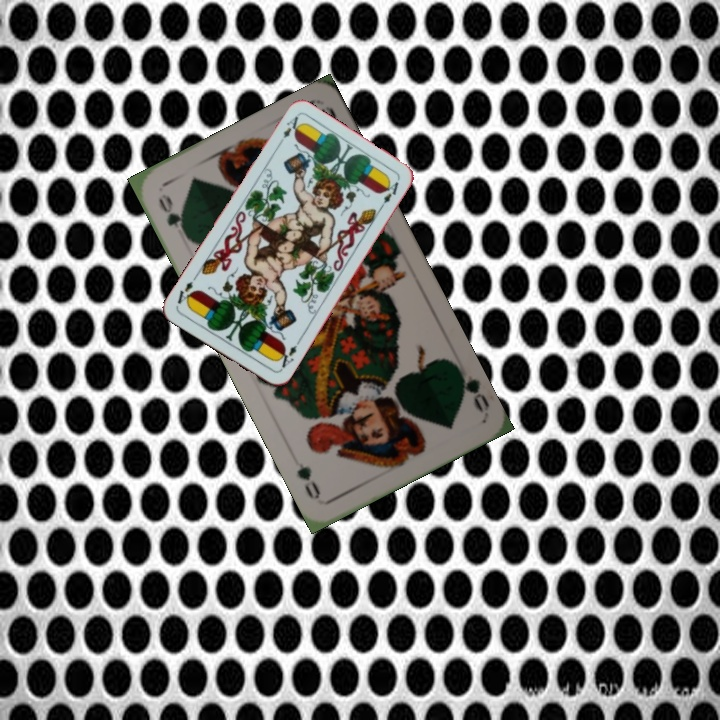EA: (275, 112, 304, 148), (273, 341, 300, 373)
GO: (453, 362, 492, 416), (154, 189, 191, 242)
